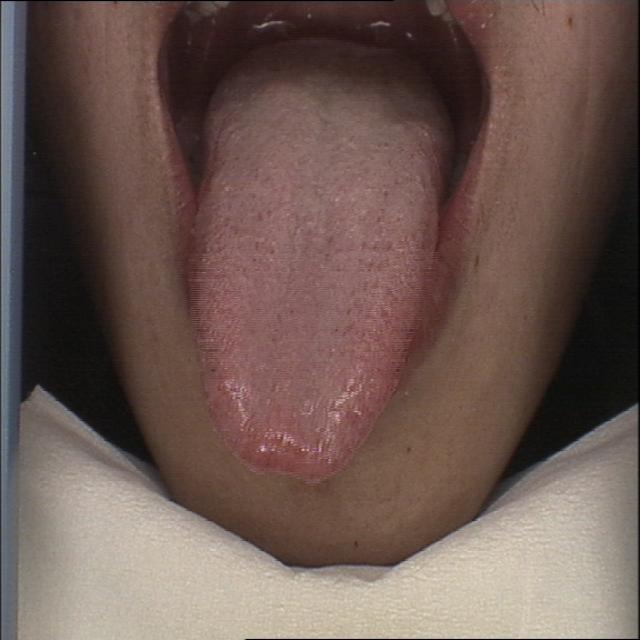tongue: (184, 36, 454, 488)
